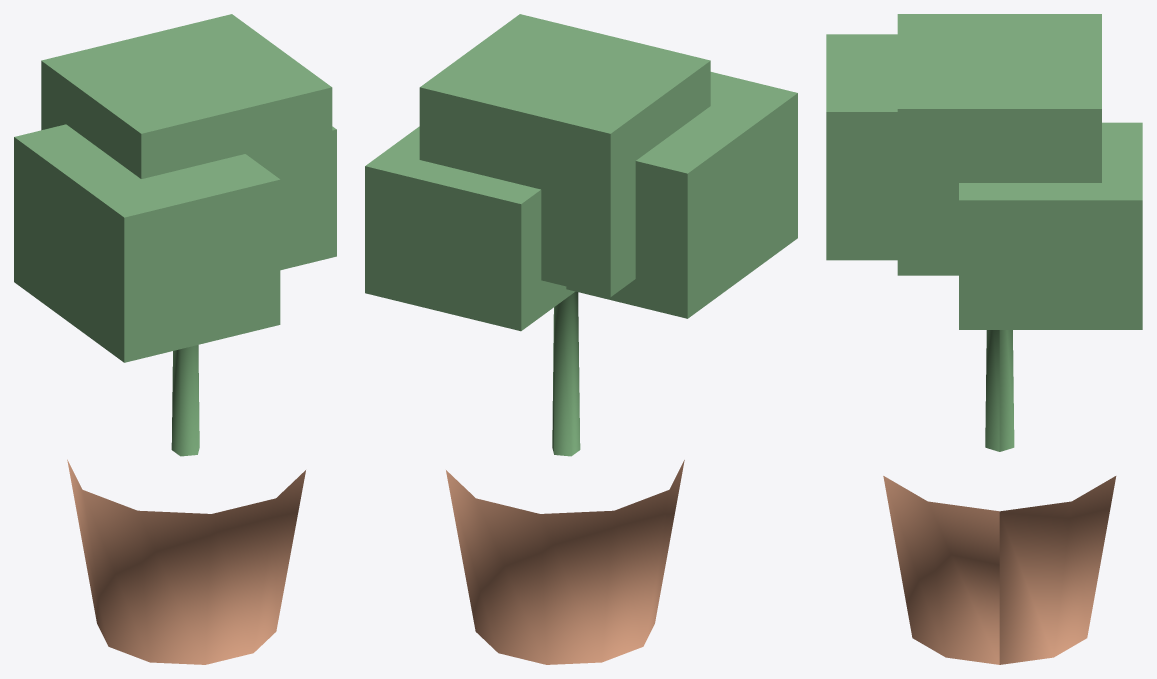
File: plant.glb
3 renders of one model, left to right at view 1: azimuth 30°, elevation 25°; view 2: azimuth 150°, elevation 25°; view 3: azimuth 270°, elevation 25°, orthographic.
Parts seen in each view (by area): view 1: leaves, pot, stem; view 2: leaves, pot, stem; view 3: leaves, pot, stem.
Boxes of the visible parts, left/top/right/bottom form: leaves: left=14, top=14, right=336, bottom=362; pot: left=67, top=459, right=305, bottom=664; stem: left=171, top=345, right=199, bottom=456; leaves: left=365, top=14, right=797, bottom=331; pot: left=446, top=460, right=684, bottom=664; stem: left=552, top=291, right=580, bottom=456; leaves: left=826, top=14, right=1142, bottom=329; pot: left=883, top=476, right=1116, bottom=664; stem: left=985, top=330, right=1014, bottom=451.
Bounding box in the file's own units: 0.32 × 0.61 × 0.31.
